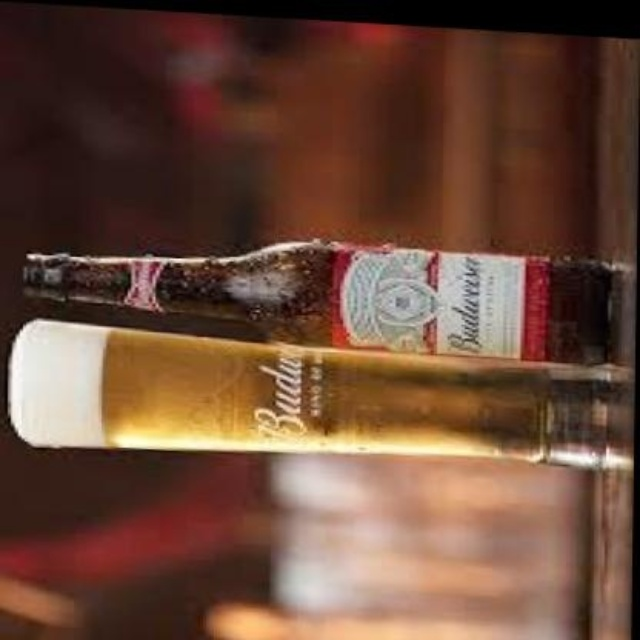trash: (23, 240, 622, 363)
